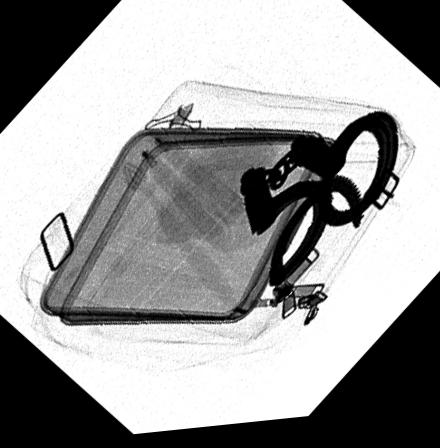HandCuffs: (238, 118, 398, 292)
